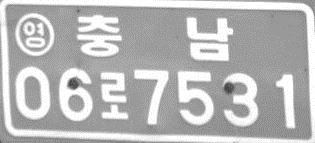0: (14, 65, 50, 121)
1: (268, 73, 304, 130)
3: (222, 72, 259, 128)
5: (176, 69, 214, 126)
6: (57, 66, 93, 122)
7: (132, 68, 169, 124)
로: (98, 71, 131, 122)
영: (13, 12, 54, 57)
충남_D: (76, 13, 233, 62)
